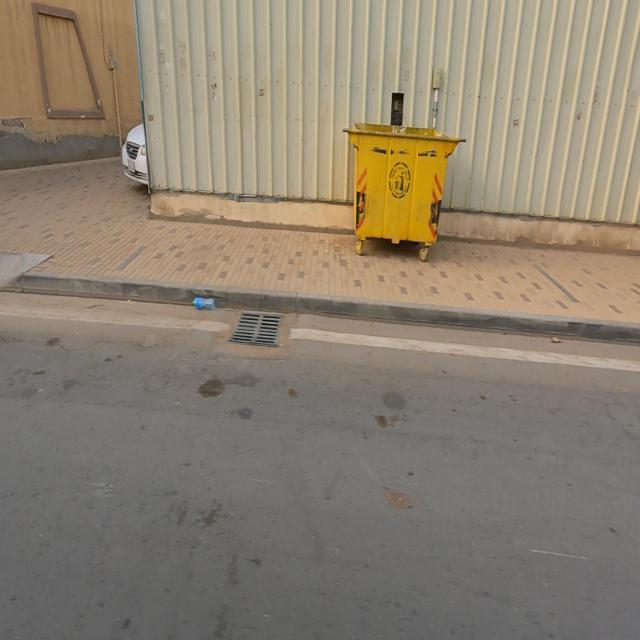debris: (264, 2, 548, 348), (165, 272, 244, 334)
